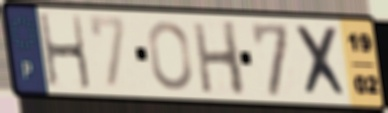7: (85, 14, 133, 93), (248, 20, 292, 100)
H: (189, 19, 248, 99), (36, 12, 93, 92)
O: (146, 19, 195, 93)
X: (291, 23, 352, 101)
